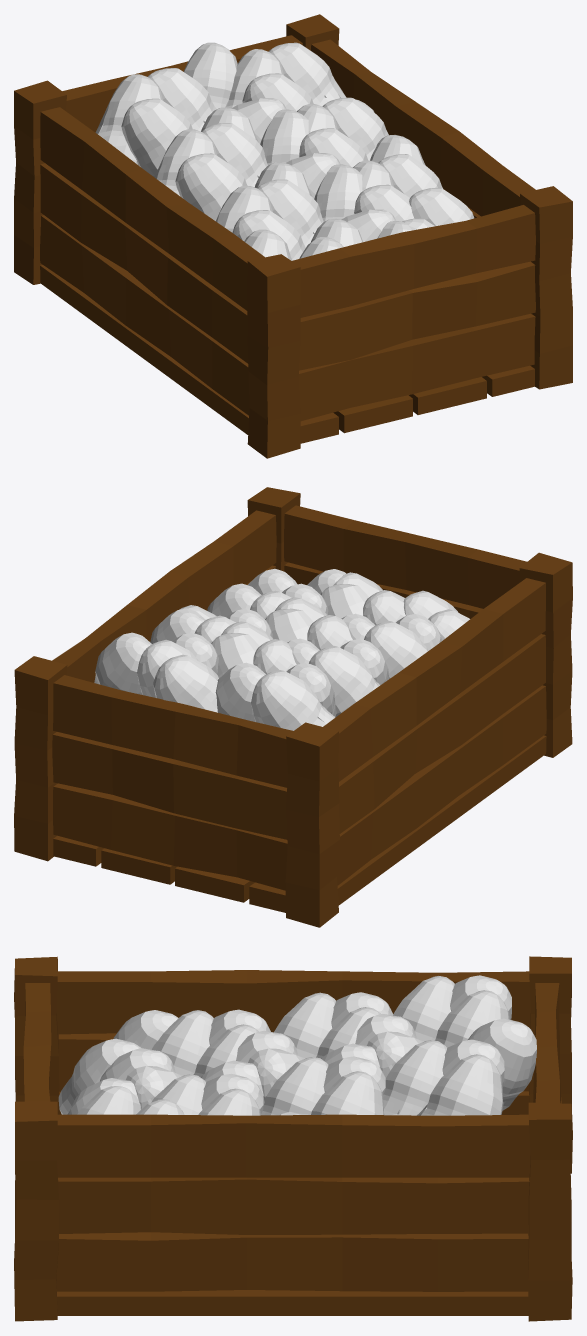
The model's file is potatokasse.fbx.
3 views of the same model, one above another, from view 1: azimuth 30°, elevation 25°; view 2: azimuth 150°, elevation 25°; view 3: azimuth 270°, elevation 25° (orthographic). The views are drawn at different scales.
Parts seen in each view (by area): view 1: Plane.016, Cube.022, Cube.011, Cube.012, Cube.013, Cube.021, Cube.020, Cube.014, Cube.010, Cube.004, Cube.006, Cube.003 (+5 smaller); view 2: Plane.016, Cube.022, Cube.017, Cube.011, Cube.018, Cube.019, Cube.021, Cube.020, Cube.006, Cube.010, Cube.005, Cube.014 (+6 smaller); view 3: Plane.016, Cube.010, Cube.008, Cube.009, Cube.022, Cube.002, Cube.004, Cube.005, Cube.014, Cube.011, Cube.006, Cube.017 (+2 smaller).
Boxes of the visible parts, box(x1,y1,x2,y2) form: Plane.016: box(95, 42, 474, 260); Cube.022: box(40, 107, 264, 310); Cube.011: box(292, 205, 535, 317); Cube.012: box(299, 261, 535, 370); Cube.013: box(298, 313, 535, 421); Cube.021: box(40, 163, 248, 363); Cube.020: box(40, 215, 249, 415); Cube.014: box(247, 254, 300, 458); Cube.010: box(311, 39, 535, 216); Cube.004: box(520, 186, 572, 389); Cube.006: box(14, 80, 66, 284); Cube.003: box(40, 265, 338, 443); Plane.016: box(94, 568, 469, 730); Cube.022: box(323, 578, 545, 781); Cube.017: box(53, 675, 292, 787); Cube.011: box(284, 505, 526, 608); Cube.018: box(52, 732, 287, 839); Cube.019: box(53, 783, 287, 890); Cube.021: box(339, 634, 545, 833); Cube.020: box(337, 685, 546, 885); Cube.006: box(285, 722, 339, 927); Cube.010: box(52, 510, 276, 682); Cube.005: box(14, 656, 67, 861); Cube.014: box(519, 552, 572, 757); Plane.016: box(58, 975, 536, 1115); Cube.010: box(57, 1114, 530, 1177); Cube.008: box(56, 1232, 528, 1291); Cube.009: box(58, 1177, 529, 1234); Cube.022: box(56, 970, 530, 1034); Cube.002: box(57, 1290, 528, 1315); Cube.004: box(14, 1101, 59, 1321); Cube.005: box(528, 1102, 572, 1321); Cube.014: box(14, 956, 59, 1174); Cube.011: box(23, 983, 51, 1101); Cube.006: box(529, 956, 572, 1173); Cube.017: box(535, 983, 560, 1103).
Bounding box in the file's own units: 465 × 300 × 667.
